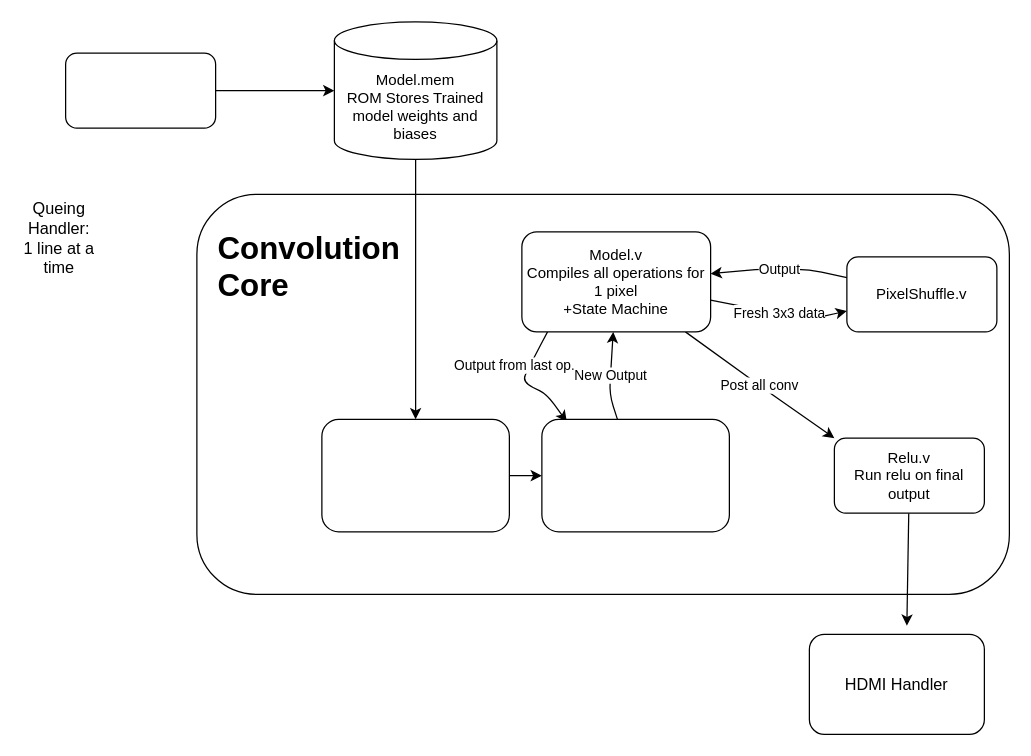
Some shapes in this 1031 by 756 pixel diagram are drawn without their labels. Each missing label, with the centre of its shape:
"Convolution.v 1 Convolution module on 3x3 pixel area for 1 pixel output" belongs at (635,475).
"ReadROM.v Reads weights and biases for layer from ROM" belongs at (415,475).
"Weights.py Pytorch to mem" belongs at (140,90).
